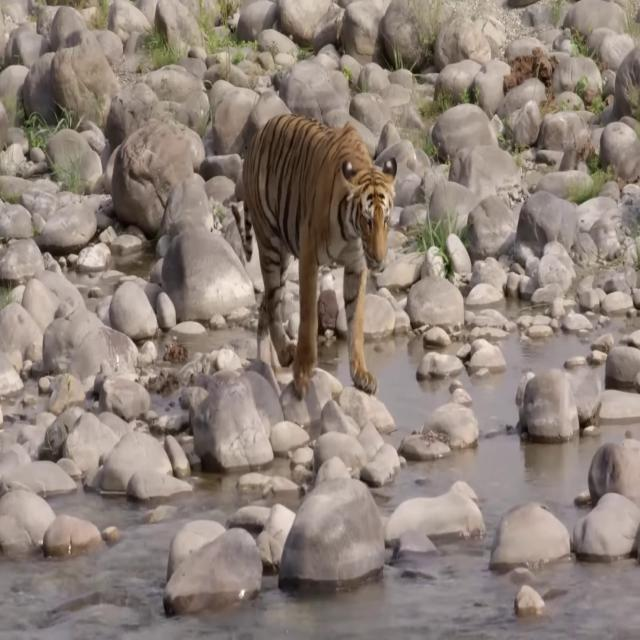tiger: (230, 112, 398, 400)
